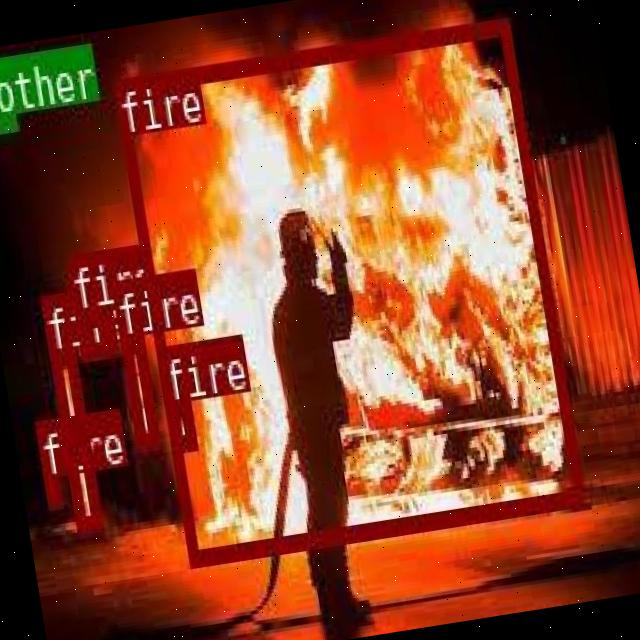fire: (112, 16, 582, 564), (49, 350, 102, 531), (120, 335, 160, 446), (72, 305, 118, 357), (166, 401, 196, 448), (44, 476, 60, 507)
